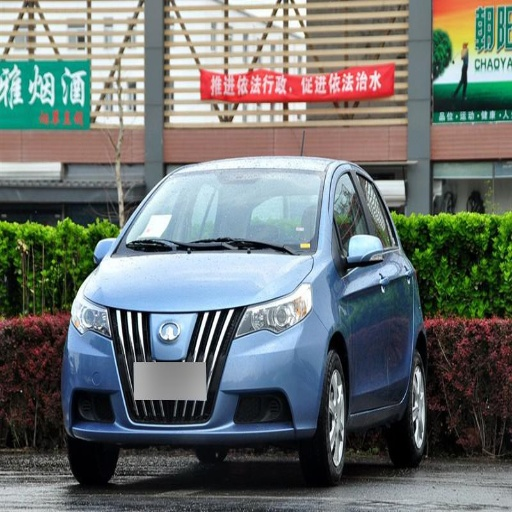front_bumper: (66, 305, 324, 444)
front_glass: (110, 170, 324, 255)
front_left_door: (330, 168, 391, 411)
front_right_light: (71, 295, 112, 337)
